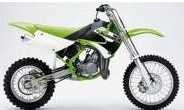motorcycle: (6, 13, 180, 109)
